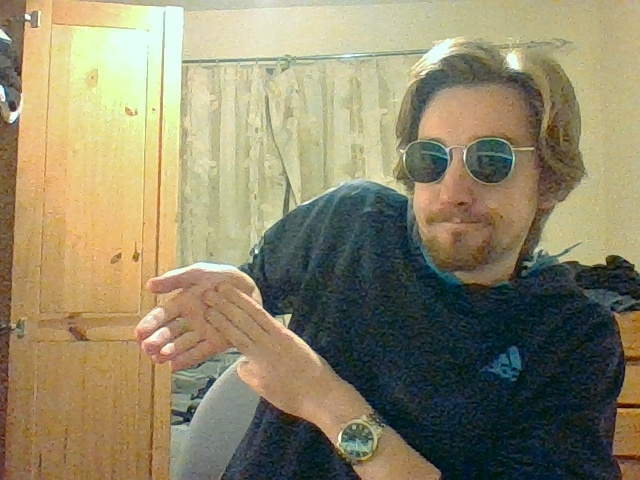mother: (136, 263, 275, 370)
